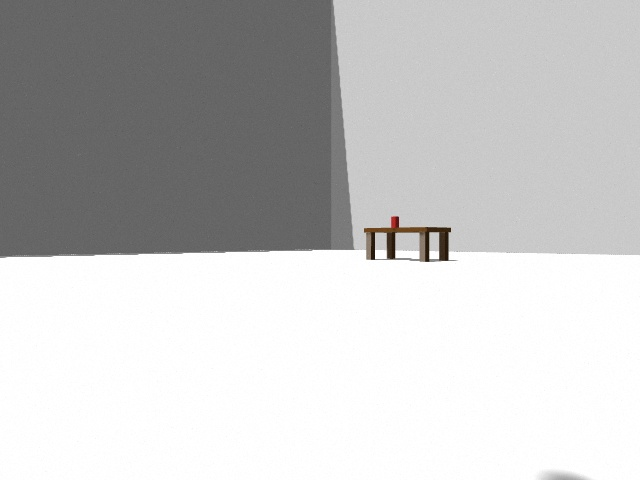red_cube: (391, 217, 396, 228)
